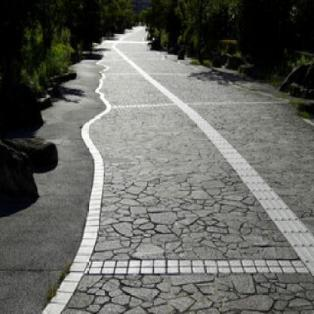Podoctatil: (39, 46, 314, 313)
